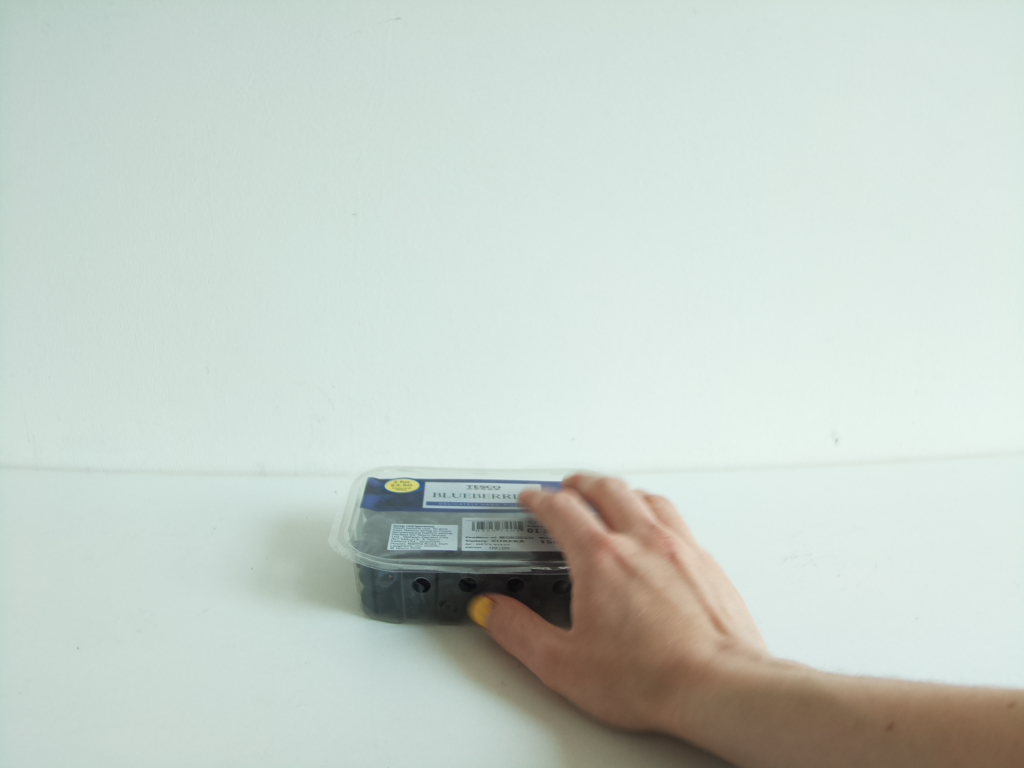soft-fruit: (333, 466, 582, 624)
